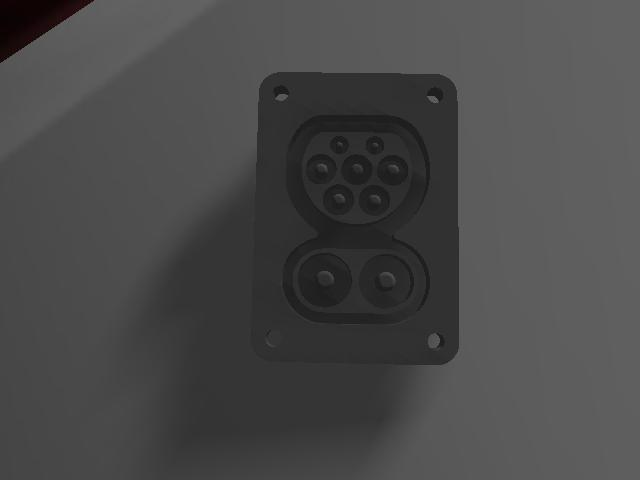EV-socket: (248, 68, 466, 369)
